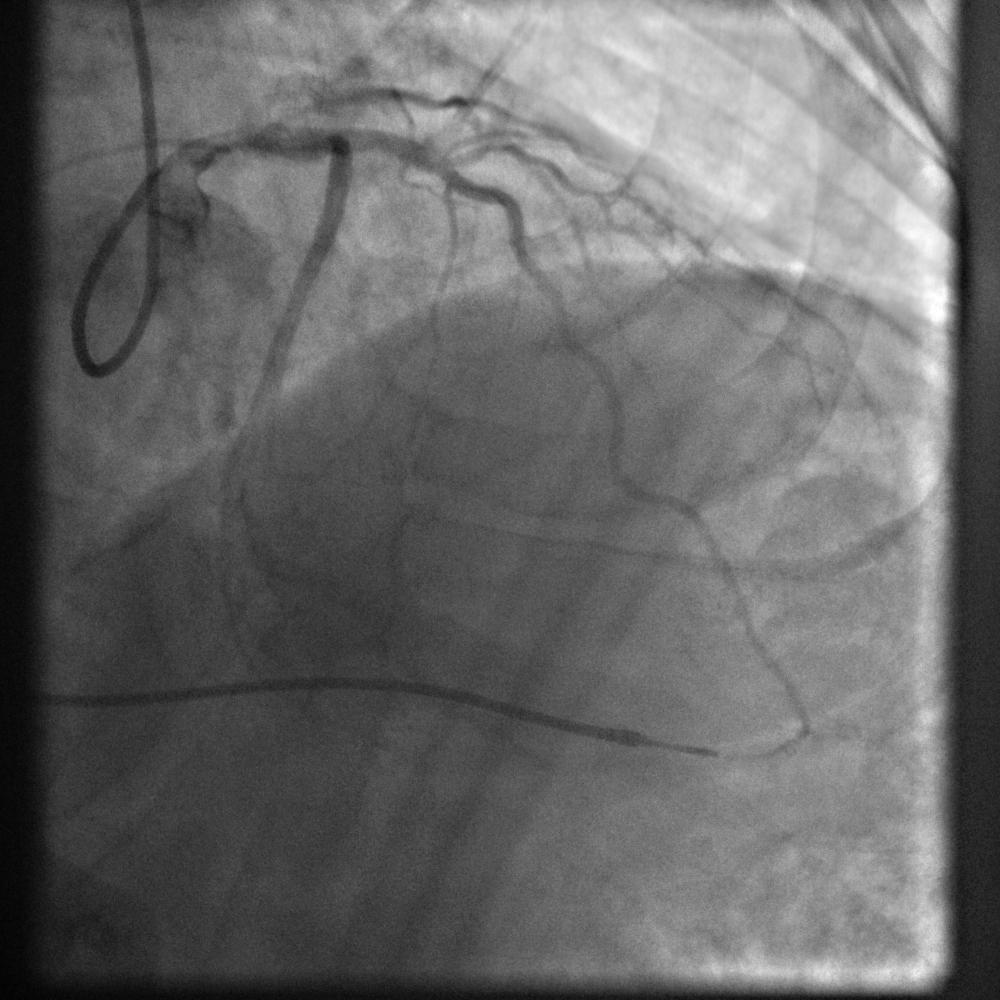Stenosis: (409, 142, 489, 189)
